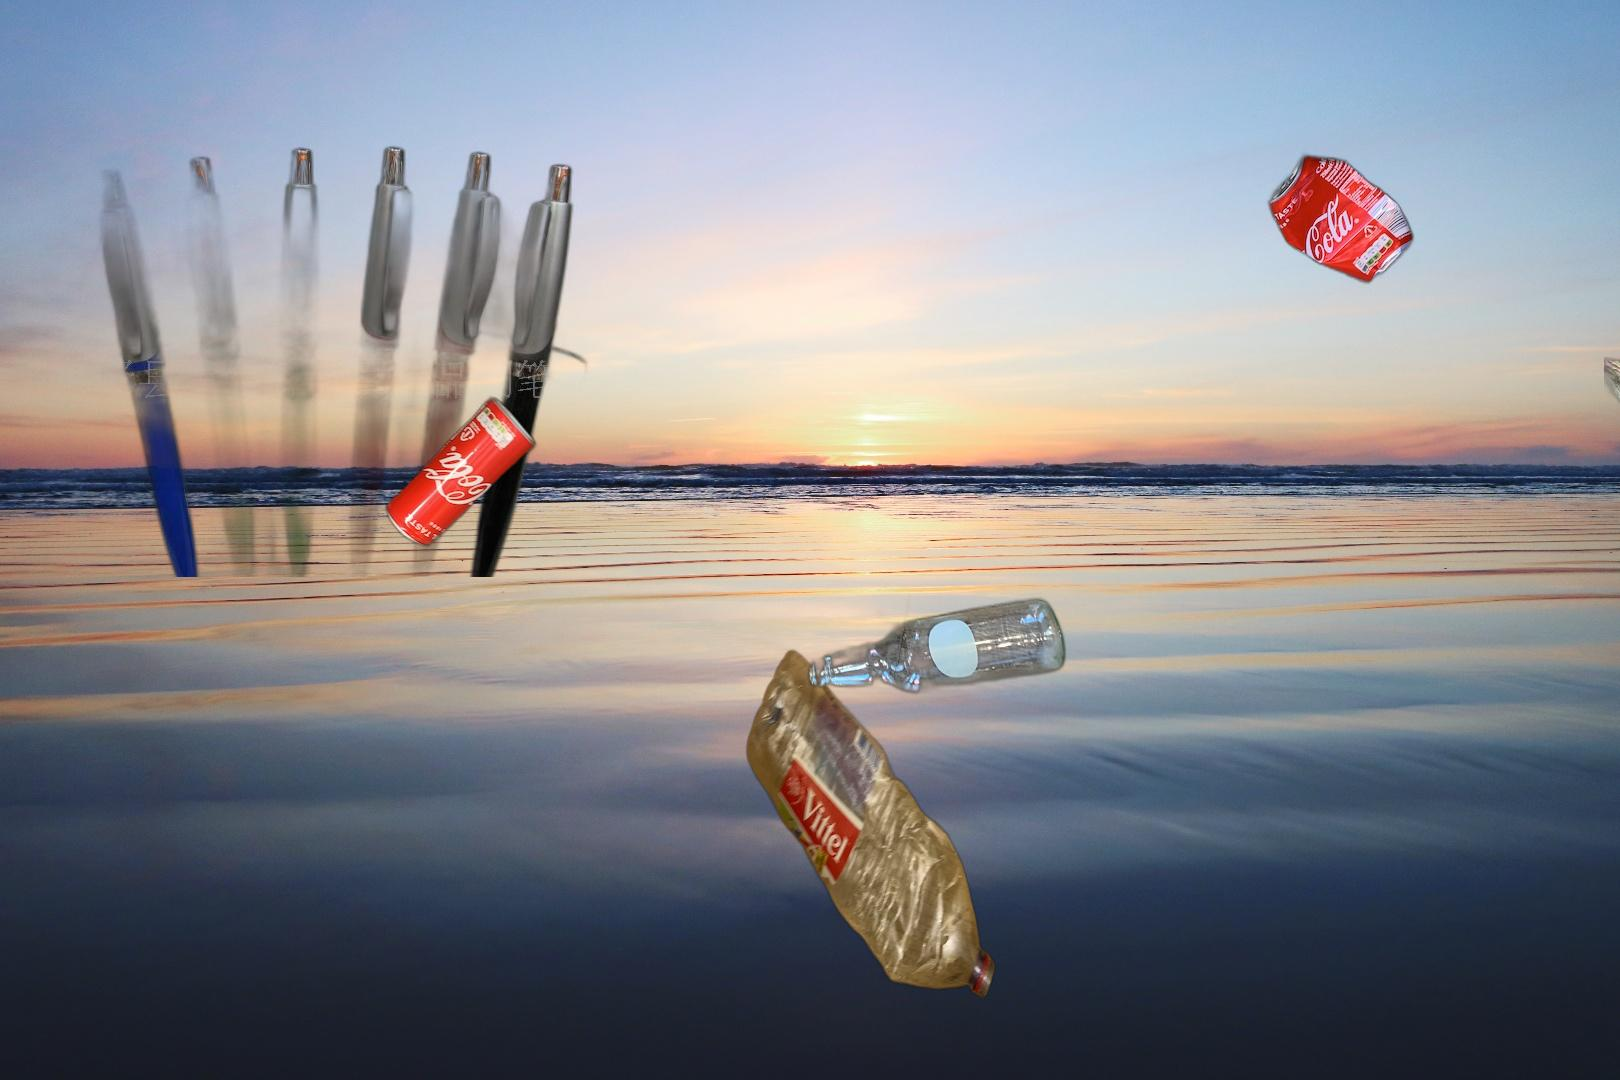glass: (804, 591, 1069, 698)
metal-cans: (382, 391, 541, 552), (1263, 147, 1417, 289)
paper: (1604, 357, 1620, 680)
penholder: (17, 135, 645, 577)
plastic-bottles: (742, 646, 998, 1003)
